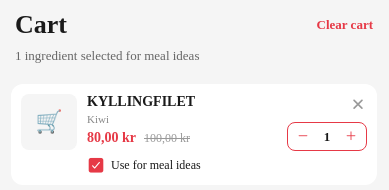
Test case: CartScreen › + and - adjust an item's quantity
Expected: the text "Kyllingfilet" is shown, [87,94,195,109]
Click the element with test id "cart-increment-button": (351, 136) [344,129,358,143]
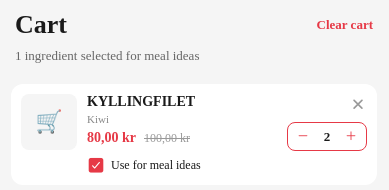
Now the text "2" is shown, box [324,128,330,144]
Click the element with test id "cart-decrement-button": (303, 136) [296,129,310,143]
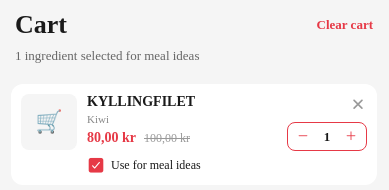
Now the text "1" is shown, box [324,128,330,144]
